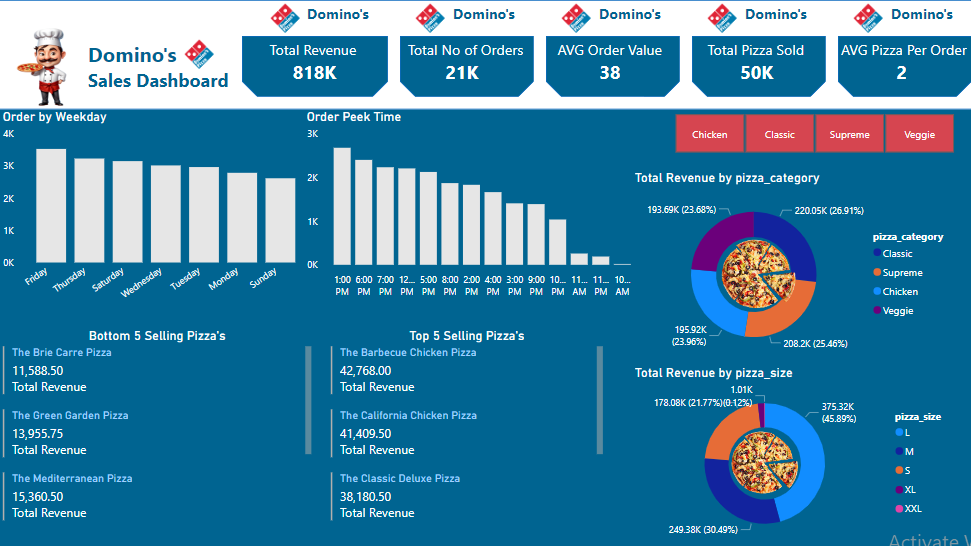

The dashboard page shown, as its layout file describes it:
{"tool":"powerbi","page":{"name":"Page 1","canvas":[1280,720],"ordinal":0},"visuals":[{"type":"columnChart","title":"Order by Weekday","fields":{"Category":["Dominos Pizza Sales.Weekday_Order"],"Y":["Pizza Measures.Total No of Orders"]},"box":[0,144,416,272],"z":5},{"type":"columnChart","title":"Order Peek Time","fields":{"Y":["Pizza Measures.Total No of Orders"],"Category":["Dominos Pizza Sales.New_Order_Time"]},"box":[400,144,448,256],"z":6},{"type":"donutChart","fields":{"Category":["Dominos Pizza Sales.pizza_category"],"Y":["Pizza Measures.Total Revenue"]},"box":[832,224,432,256],"z":7},{"type":"donutChart","fields":{"Y":["Pizza Measures.Total Revenue"],"Category":["Dominos Pizza Sales.pizza_size"]},"box":[832,480,432,240],"z":8},{"type":"multiRowCard","title":"Bottom 5 Selling Pizza''s","fields":{"Values":["Dominos Pizza Sales.pizza_name","Pizza Measures.Total Revenue"]},"box":[0,432,416,272],"z":9},{"type":"multiRowCard","title":"Top 5 Selling Pizza''s","fields":{"Values":["Dominos Pizza Sales.pizza_name","Pizza Measures.Total Revenue"]},"box":[432,432,368,272],"z":10},{"type":"shape","box":[0,0,1280,144],"z":11},{"type":"shape","box":[528,48,176,80],"z":12},{"type":"shape","box":[720,48,176,80],"z":13},{"type":"shape","box":[912,48,176,80],"z":14},{"type":"shape","box":[1104,48,176,80],"z":15},{"type":"shape","box":[320,48,192,80],"z":16},{"type":"textbox","box":[336,48,144,96],"z":17},{"type":"textbox","box":[528,48,176,80],"z":18},{"type":"textbox","box":[720,48,176,80],"z":19},{"type":"textbox","box":[912,48,176,80],"z":20},{"type":"textbox","box":[1072,48,208,80],"z":21},{"type":"textbox","box":[400,0,112,48],"z":22},{"type":"textbox","box":[592,0,112,48],"z":23},{"type":"textbox","box":[784,0,112,48],"z":24},{"type":"textbox","box":[976,0,112,48],"z":25},{"type":"textbox","box":[1168,0,112,48],"z":26},{"type":"textbox","box":[112,48,208,80],"z":27},{"type":"image","box":[240,48,48,48],"z":28},{"type":"image","box":[352,0,48,48],"z":29},{"type":"image","box":[544,0,48,48],"z":30},{"type":"image","box":[736,0,48,48],"z":31},{"type":"image","box":[928,0,48,48],"z":32},{"type":"image","box":[1120,0,48,48],"z":33},{"type":"slicer","fields":{"Values":["Dominos Pizza Sales.pizza_category"]},"box":[864,144,416,64],"z":34},{"type":"image","box":[944,304,112,112],"z":35},{"type":"image","box":[944,560,128,96],"z":36},{"type":"image","box":[0,0,112,176],"z":37}]}

Visuals, with their boxes on the page's 1280x720 design canvas (x1, y1, x2, y2). These are canvas units, not pixel positions in the 971x546 screenshot, which may show the page scaled, cropped or inside an application window:
"Order by Weekday" columnChart: (0, 144, 416, 416)
"Order Peek Time" columnChart: (400, 144, 848, 400)
donutChart - Dominos Pizza Sales.pizza_category x Pizza Measures.Total Revenue: (832, 224, 1264, 480)
donutChart - Pizza Measures.Total Revenue x Dominos Pizza Sales.pizza_size: (832, 480, 1264, 720)
"Bottom 5 Selling Pizza''s" multiRowCard: (0, 432, 416, 704)
"Top 5 Selling Pizza''s" multiRowCard: (432, 432, 800, 704)
shape: (0, 0, 1280, 144)
shape: (528, 48, 704, 128)
shape: (720, 48, 896, 128)
shape: (912, 48, 1088, 128)
shape: (1104, 48, 1280, 128)
shape: (320, 48, 512, 128)
textbox: (336, 48, 480, 144)
textbox: (528, 48, 704, 128)
textbox: (720, 48, 896, 128)
textbox: (912, 48, 1088, 128)
textbox: (1072, 48, 1280, 128)
textbox: (400, 0, 512, 48)
textbox: (592, 0, 704, 48)
textbox: (784, 0, 896, 48)
textbox: (976, 0, 1088, 48)
textbox: (1168, 0, 1280, 48)
textbox: (112, 48, 320, 128)
image: (240, 48, 288, 96)
image: (352, 0, 400, 48)
image: (544, 0, 592, 48)
image: (736, 0, 784, 48)
image: (928, 0, 976, 48)
image: (1120, 0, 1168, 48)
slicer - Dominos Pizza Sales.pizza_category: (864, 144, 1280, 208)
image: (944, 304, 1056, 416)
image: (944, 560, 1072, 656)
image: (0, 0, 112, 176)
